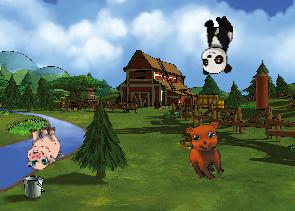bear: (177, 115, 238, 184)
panda: (200, 15, 233, 75)
pig: (21, 124, 64, 170)
